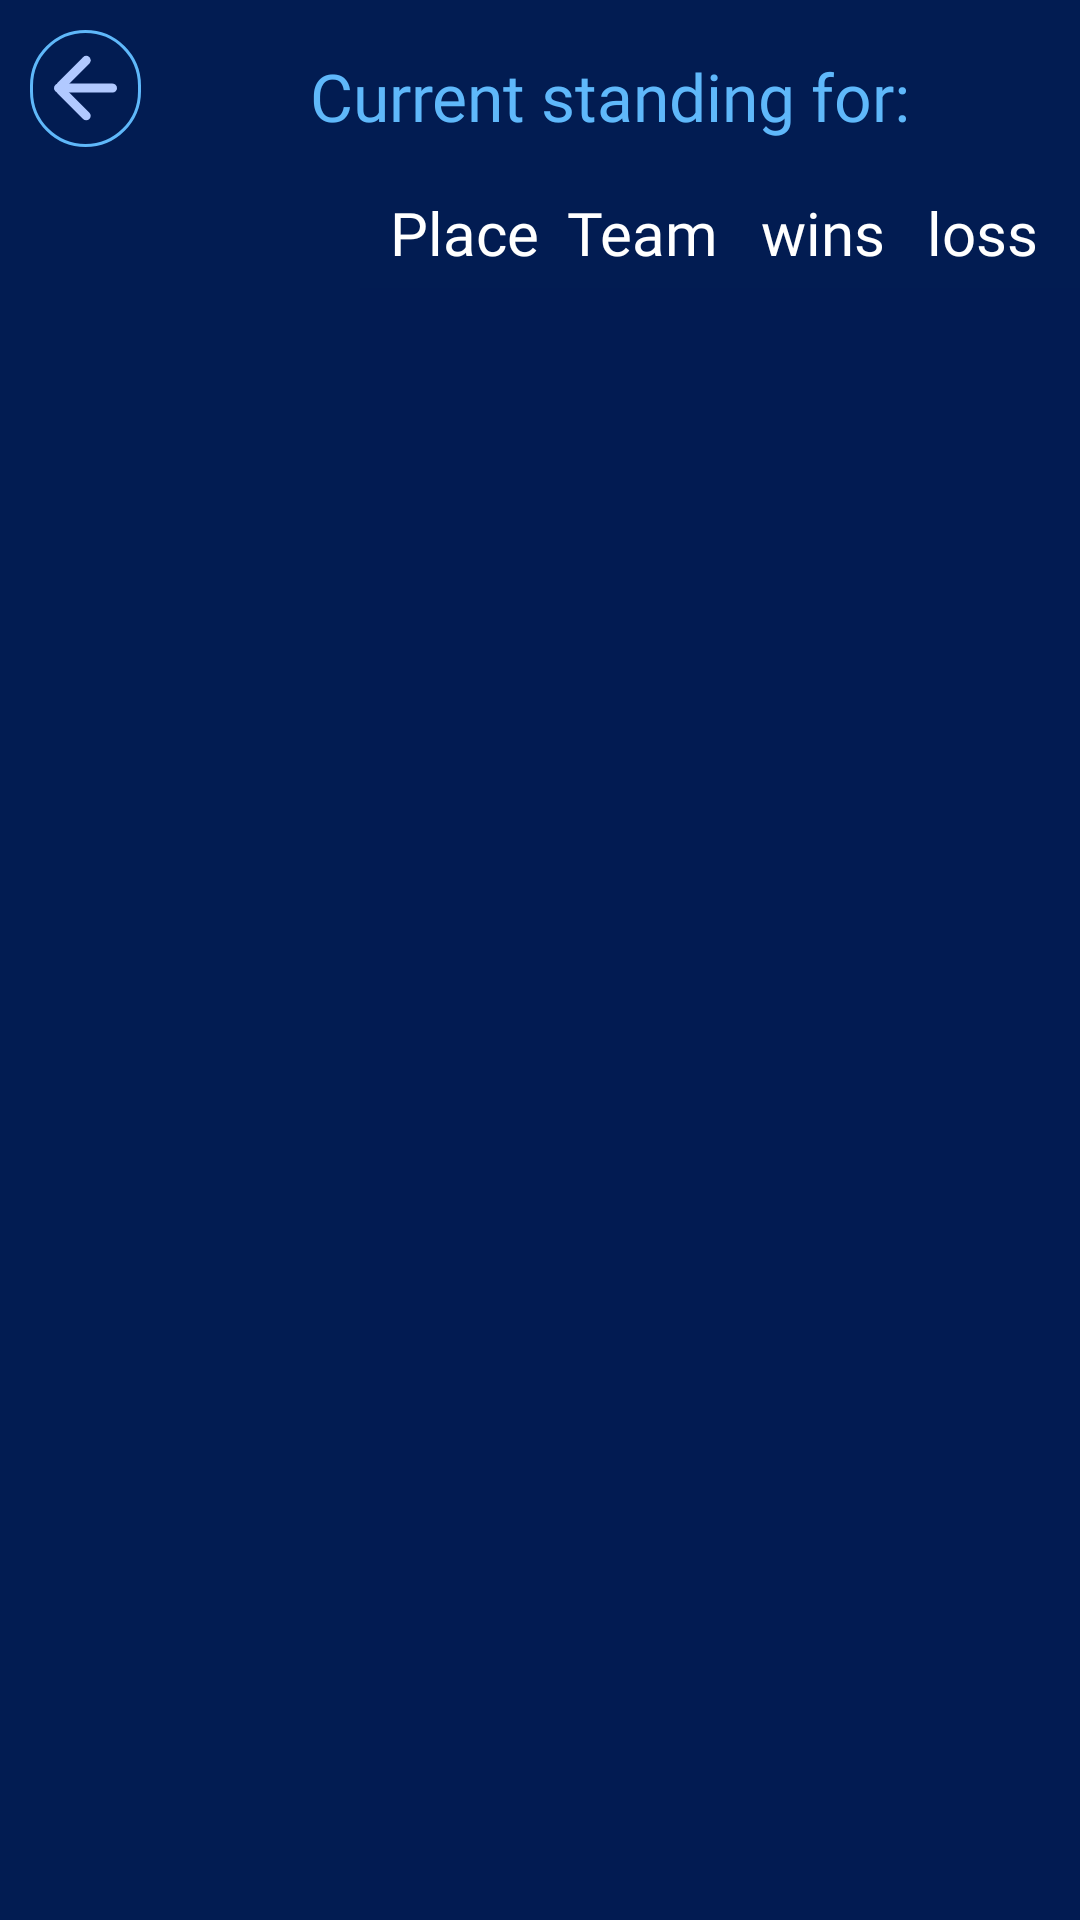

Icons on this 1080 x 1920 Android screen, each with its box as BBox(x1, y1, x2, y2):
arrow left: BBox(30, 30, 141, 147)
